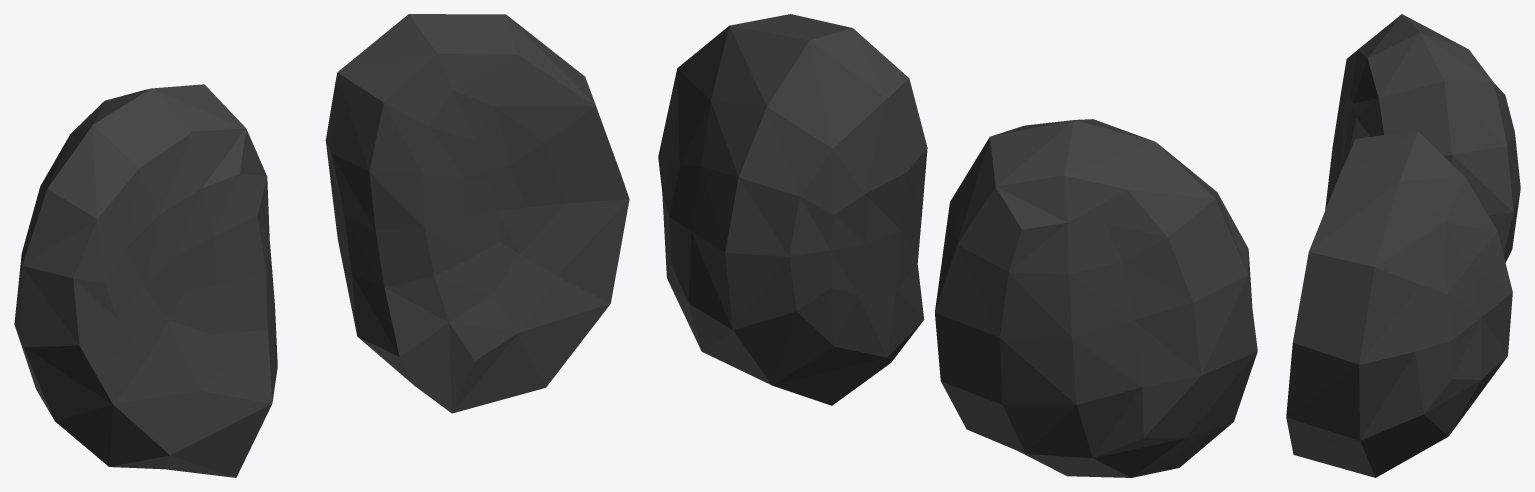
The model's file is FL_sesamoids_L.glb.
The picture shows the model from 3 angles, left to right: view 1: azimuth 30°, elevation 25°; view 2: azimuth 150°, elevation 25°; view 3: azimuth 270°, elevation 25°; orthographic projection. The views are drawn at different scales.
Parts seen in each view (by area): view 1: FL_sesamoids_L; view 2: FL_sesamoids_L; view 3: FL_sesamoids_L.
Part boxes in pixels (left/top/right/bottom): FL_sesamoids_L: left=14, top=14, right=629, bottom=477; FL_sesamoids_L: left=658, top=14, right=1257, bottom=477; FL_sesamoids_L: left=1286, top=14, right=1520, bottom=477.
Size of the model in its own units: 0.0625 by 0.0377 by 0.0247.
1 material, 1 textured.
